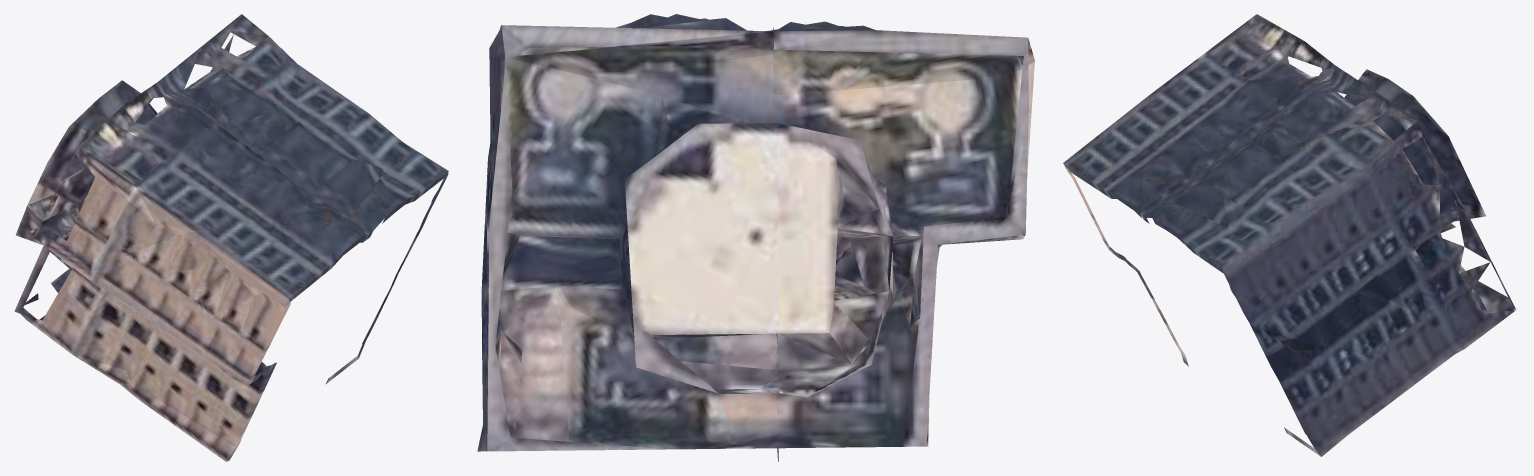
3 views of the same model, side by side, from view 1: azimuth 30°, elevation 25°; view 2: azimuth 150°, elevation 25°; view 3: azimuth 270°, elevation 25° (orthographic). The views are drawn at different scales.
Bounding box in the file's own units: 45.99 × 38.13 × 50.97.
Materials: 1 (1 with a texture image).
